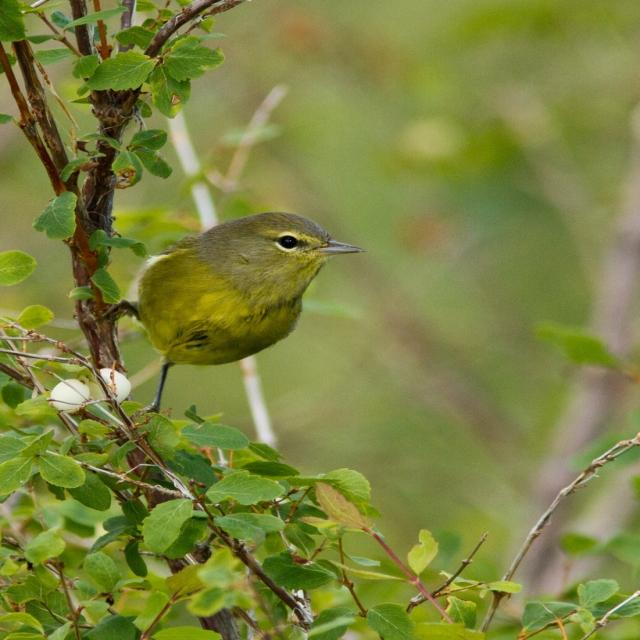bird: (112, 210, 366, 428)
